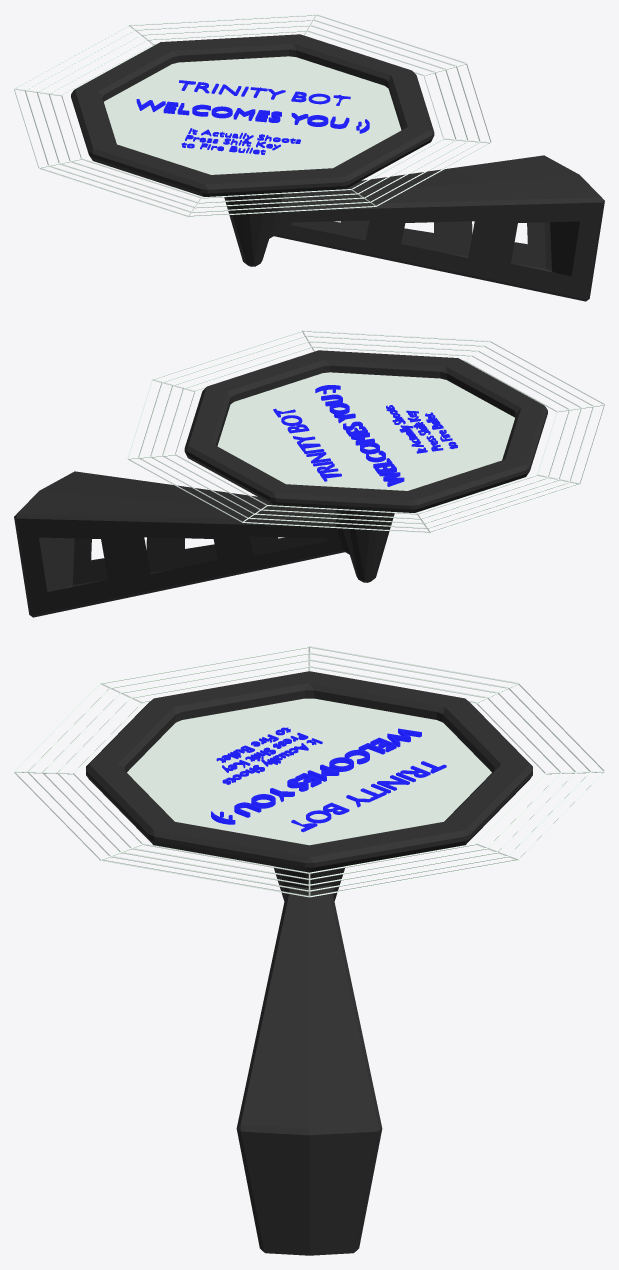
File: pad9.glb
3 renders of one model, top to bottom at view 1: azimuth 30°, elevation 25°; view 2: azimuth 150°, elevation 25°; view 3: azimuth 270°, elevation 25°, orthographic. The views are drawn at different scales.
Visible parts, largest first — view 1: Pad, Pad.001, Pad wire, Text.002, Text.001, Text; view 2: Pad, Pad.001, Pad wire, Text.002, Text.001, Text; view 3: Pad, Pad.001, Pad wire, Text.002, Text.001, Text.
Boxes of the visible parts, <box> form: Pad: <box>71,34,604,301</box>; Pad.001: <box>104,56,401,174</box>; Pad wire: <box>14,14,491,217</box>; Text.002: <box>136,99,369,133</box>; Text.001: <box>181,128,300,154</box>; Text: <box>179,80,350,105</box>; Pad: <box>14,350,547,617</box>; Pad.001: <box>217,372,514,490</box>; Pad wire: <box>127,330,604,533</box>; Text.002: <box>315,385,404,486</box>; Text.001: <box>386,405,457,453</box>; Text: <box>273,408,341,481</box>; Pad: <box>86,671,532,1255</box>; Pad.001: <box>127,698,491,845</box>; Pad wire: <box>14,646,604,897</box>; Text.002: <box>211,728,421,824</box>; Text.001: <box>216,727,322,784</box>; Text: <box>291,761,446,832</box>.
Bounding box in the file's own units: 9.14 × 4.1 × 7.19.
